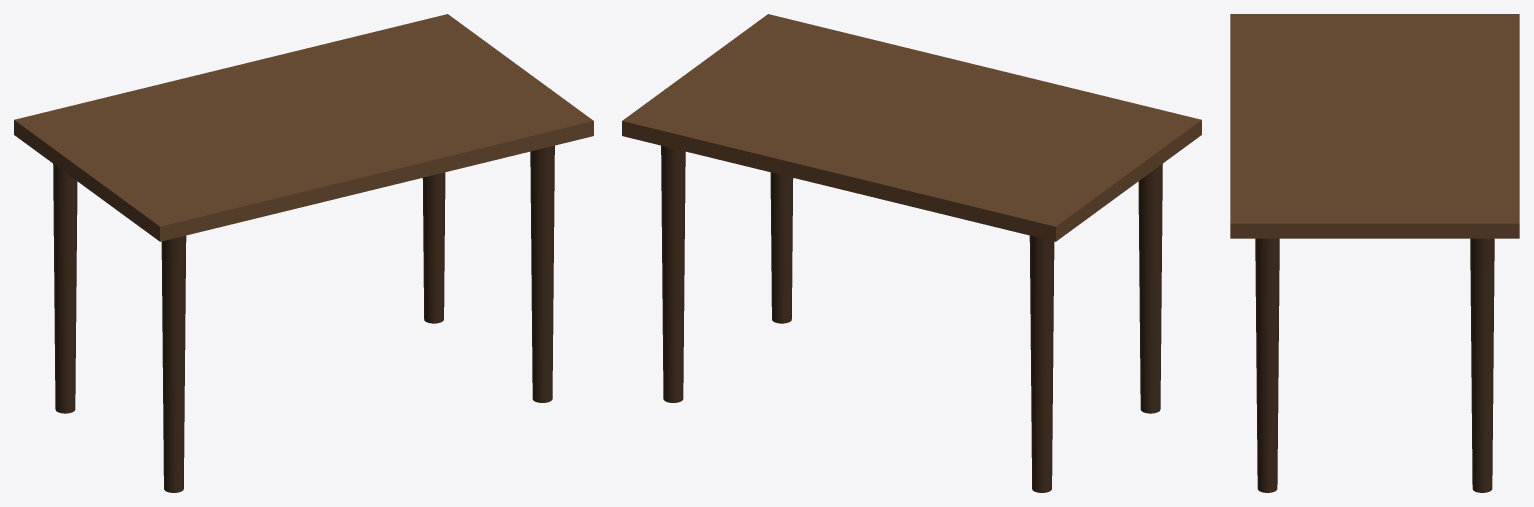
Rendered from table_dining_s.glb.
3 renders of one model, left to right at view 1: azimuth 30°, elevation 25°; view 2: azimuth 150°, elevation 25°; view 3: azimuth 270°, elevation 25°, orthographic.
Visible parts, largest first — view 1: furniture; view 2: furniture; view 3: furniture.
Part boxes in pixels (x1,y1,x2,y2): furniture: [14, 14, 593, 492]; furniture: [622, 14, 1201, 492]; furniture: [1230, 14, 1519, 492].
Size of the model in its own units: 1.2 by 0.75 by 0.7.
